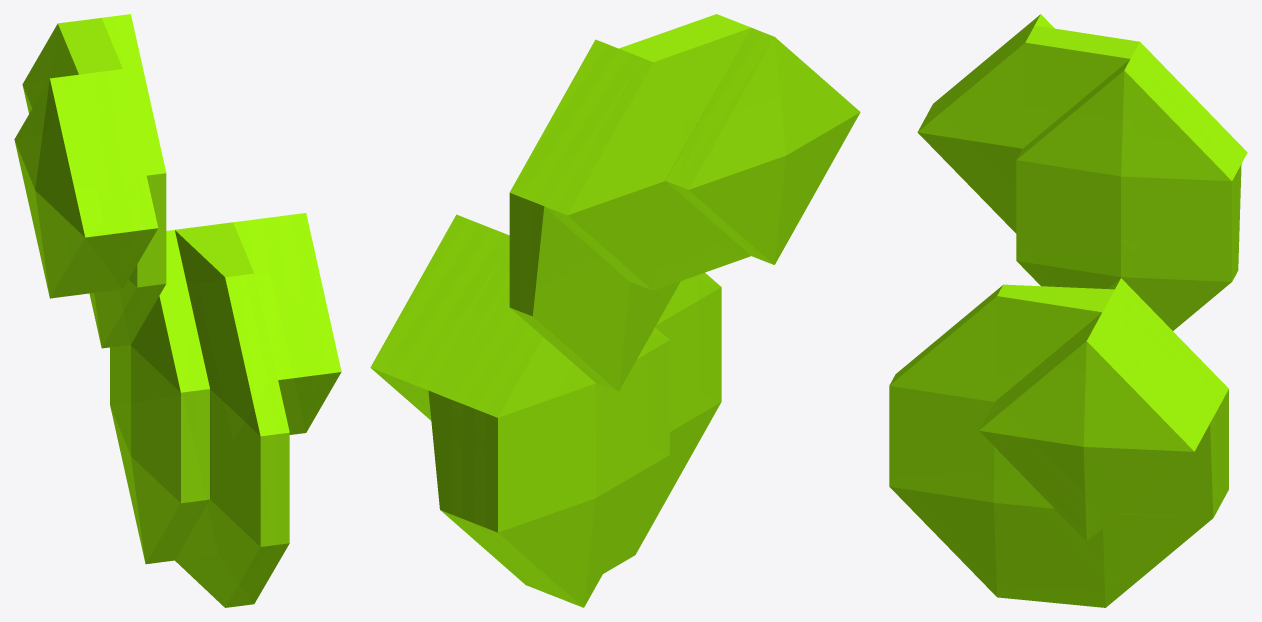
File: SVV_Fragment4.gltf
3 renders of one model, left to right at view 1: azimuth 30°, elevation 25°; view 2: azimuth 150°, elevation 25°; view 3: azimuth 270°, elevation 25°, orthographic. The views are drawn at different scales.
Parts seen in each view (by area): view 1: Fragment4; view 2: Fragment4; view 3: Fragment4.
Boxes of the visible parts, left/top/right/bottom form: Fragment4: left=14, top=14, right=341, bottom=607; Fragment4: left=370, top=14, right=860, bottom=607; Fragment4: left=889, top=14, right=1247, bottom=607.
Size of the model in its own units: 2051 by 3290 by 2125.
